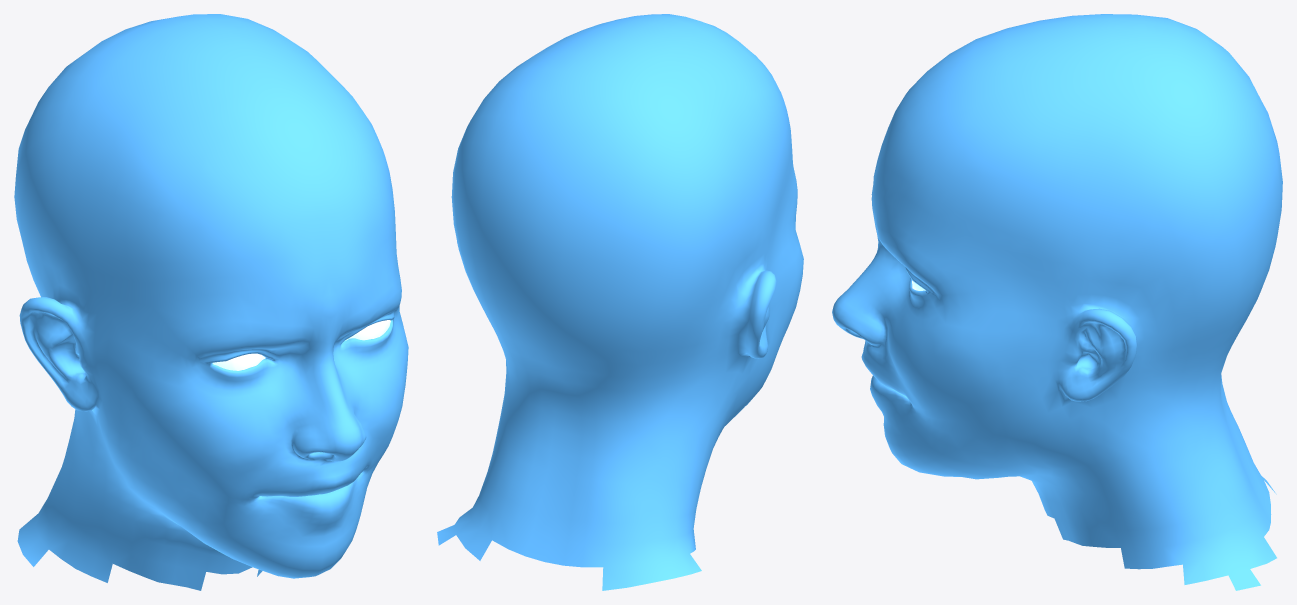
The model's file is gideon-head.glb.
3 views of the same model, side by side, from view 1: azimuth 30°, elevation 25°; view 2: azimuth 150°, elevation 25°; view 3: azimuth 270°, elevation 25° (orthographic). The views are drawn at different scales.
Parts seen in each view (by area): view 1: GideonHead, GideonEyes; view 2: GideonHead; view 3: GideonHead.
Part boxes in pixels (x1=…): GideonHead: x1=14, y1=14, x2=408, y2=590; GideonEyes: x1=212, y1=320, x2=390, y2=370; GideonHead: x1=437, y1=14, x2=803, y2=590; GideonHead: x1=832, y1=14, x2=1282, y2=590.
Bounding box in the file's own units: 1.64 × 2.4 × 1.96.
